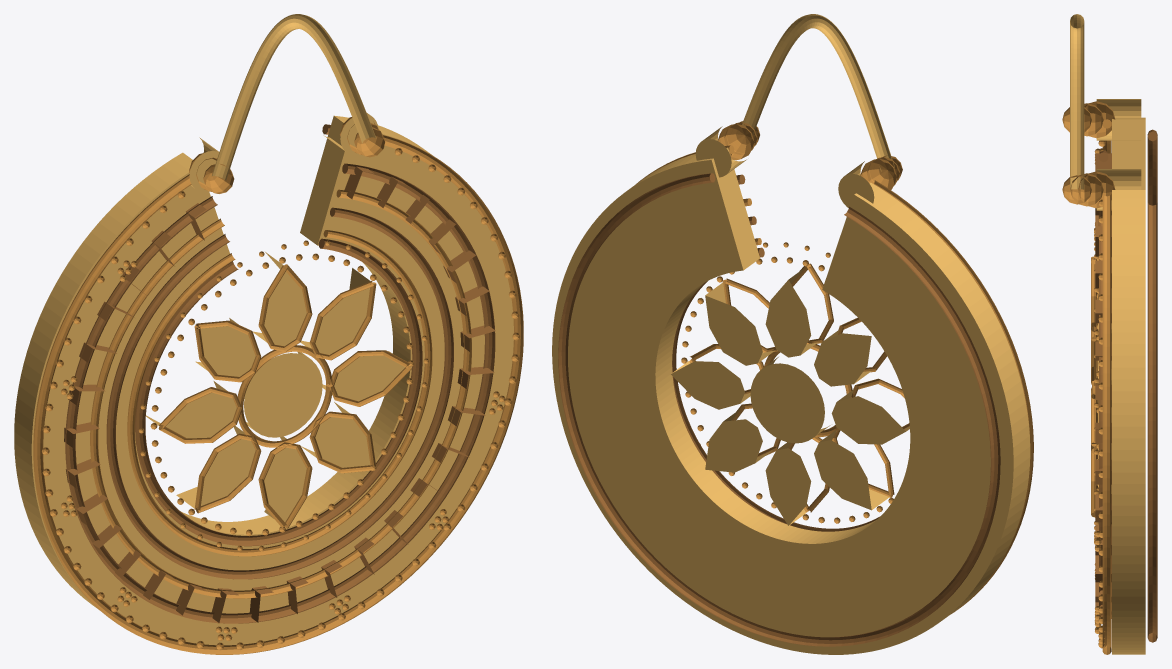
Rendered from arrecada_reconstrucao_3d.glb.
3 views of the same model, side by side, from view 1: azimuth 30°, elevation 25°; view 2: azimuth 150°, elevation 25°; view 3: azimuth 270°, elevation 25° (orthographic). The views are drawn at different scales.
Visible parts, largest first — view 1: Arrecada reconstructed; view 2: Arrecada reconstructed; view 3: Arrecada reconstructed.
Boxes of the visible parts, left/top/right/bottom form: Arrecada reconstructed: left=14, top=14, right=523, bottom=654; Arrecada reconstructed: left=552, top=14, right=1033, bottom=654; Arrecada reconstructed: left=1062, top=14, right=1157, bottom=654.
Bounding box in the file's own units: 1.92 × 2.42 × 0.341.
